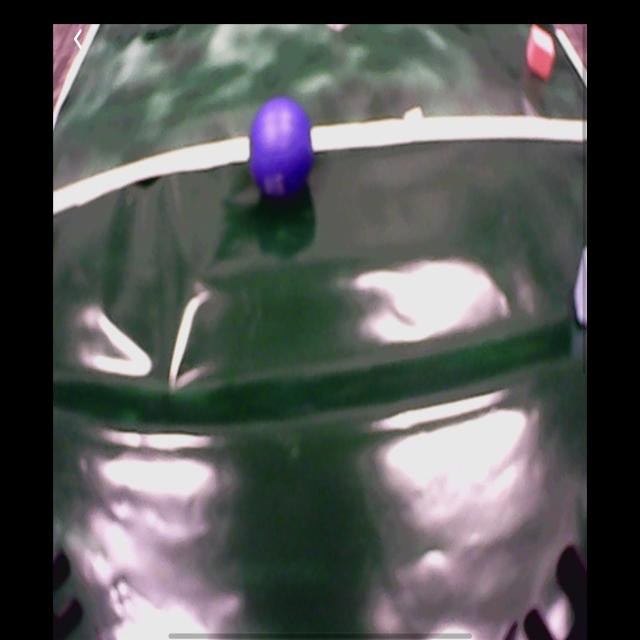ball: (250, 97, 312, 199)
